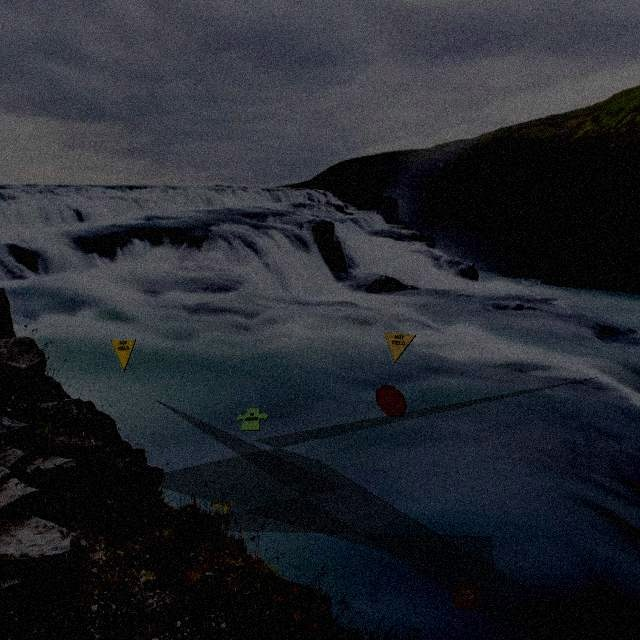FAKE_STOP: (452, 578, 484, 611)
GO_AROUND: (236, 407, 269, 431)
NOT_YIELD: (383, 331, 416, 363), (110, 339, 136, 372)
STOP: (375, 384, 407, 417)
